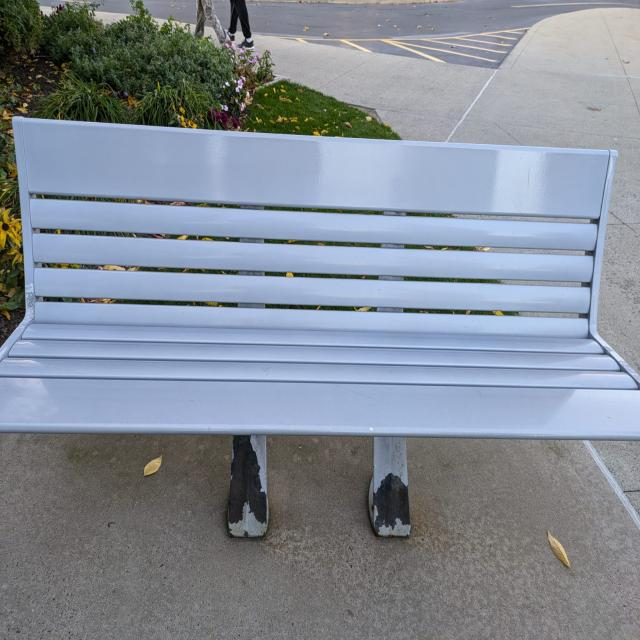Filiform Corrosion: (370, 438, 411, 538), (229, 436, 269, 538)
